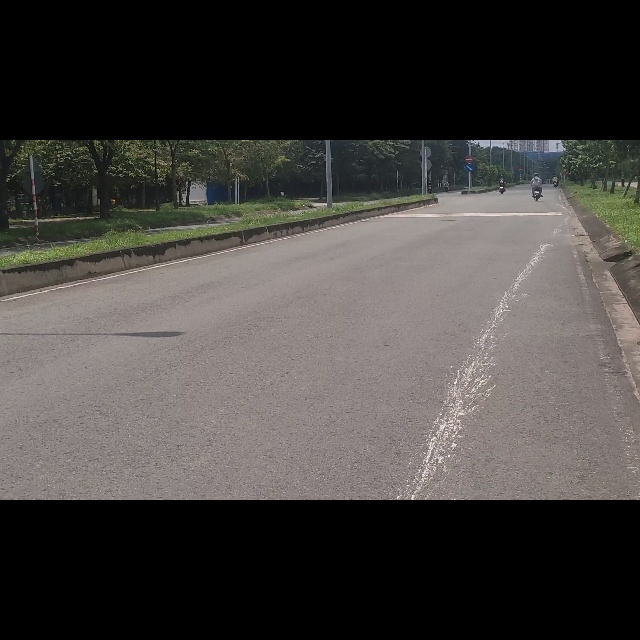bien_cam: (465, 27, 473, 41), (465, 43, 473, 56)
